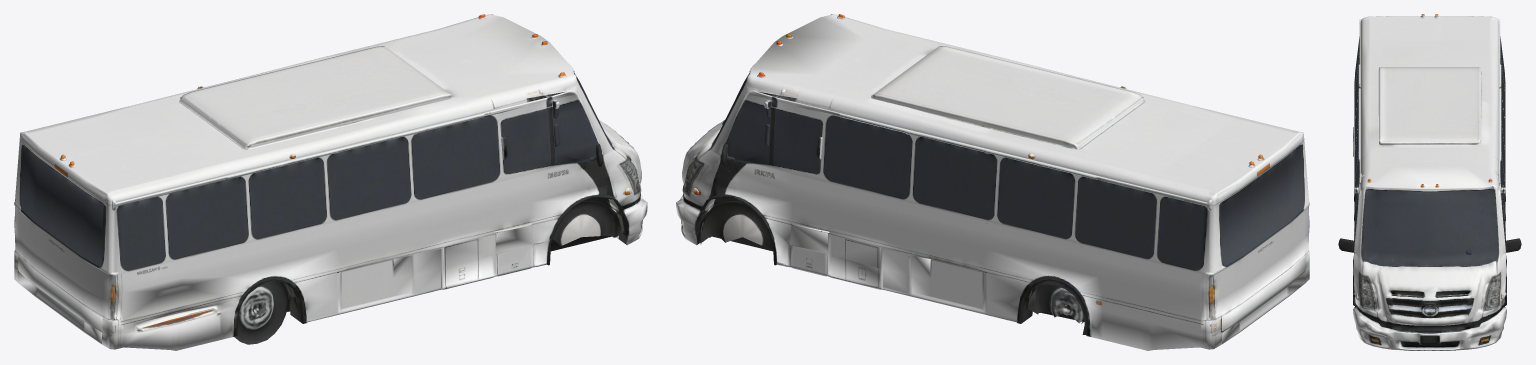
The model's file is elpinchecamion.fbx.
3 views of the same model, side by side, from view 1: azimuth 30°, elevation 25°; view 2: azimuth 150°, elevation 25°; view 3: azimuth 270°, elevation 25° (orthographic). The views are drawn at different scales.
Parts seen in each view (by area): view 1: tripo_node_f5c425f5; view 2: tripo_node_f5c425f5; view 3: tripo_node_f5c425f5.
Boxes of the visible parts, box(x1,y1,x2,y2) form: tripo_node_f5c425f5: box(14, 14, 647, 350); tripo_node_f5c425f5: box(676, 14, 1309, 350); tripo_node_f5c425f5: box(1338, 14, 1521, 350).
Size of the model in its own units: 99.8 by 33.46 by 36.99.
1 material, 1 textured.
